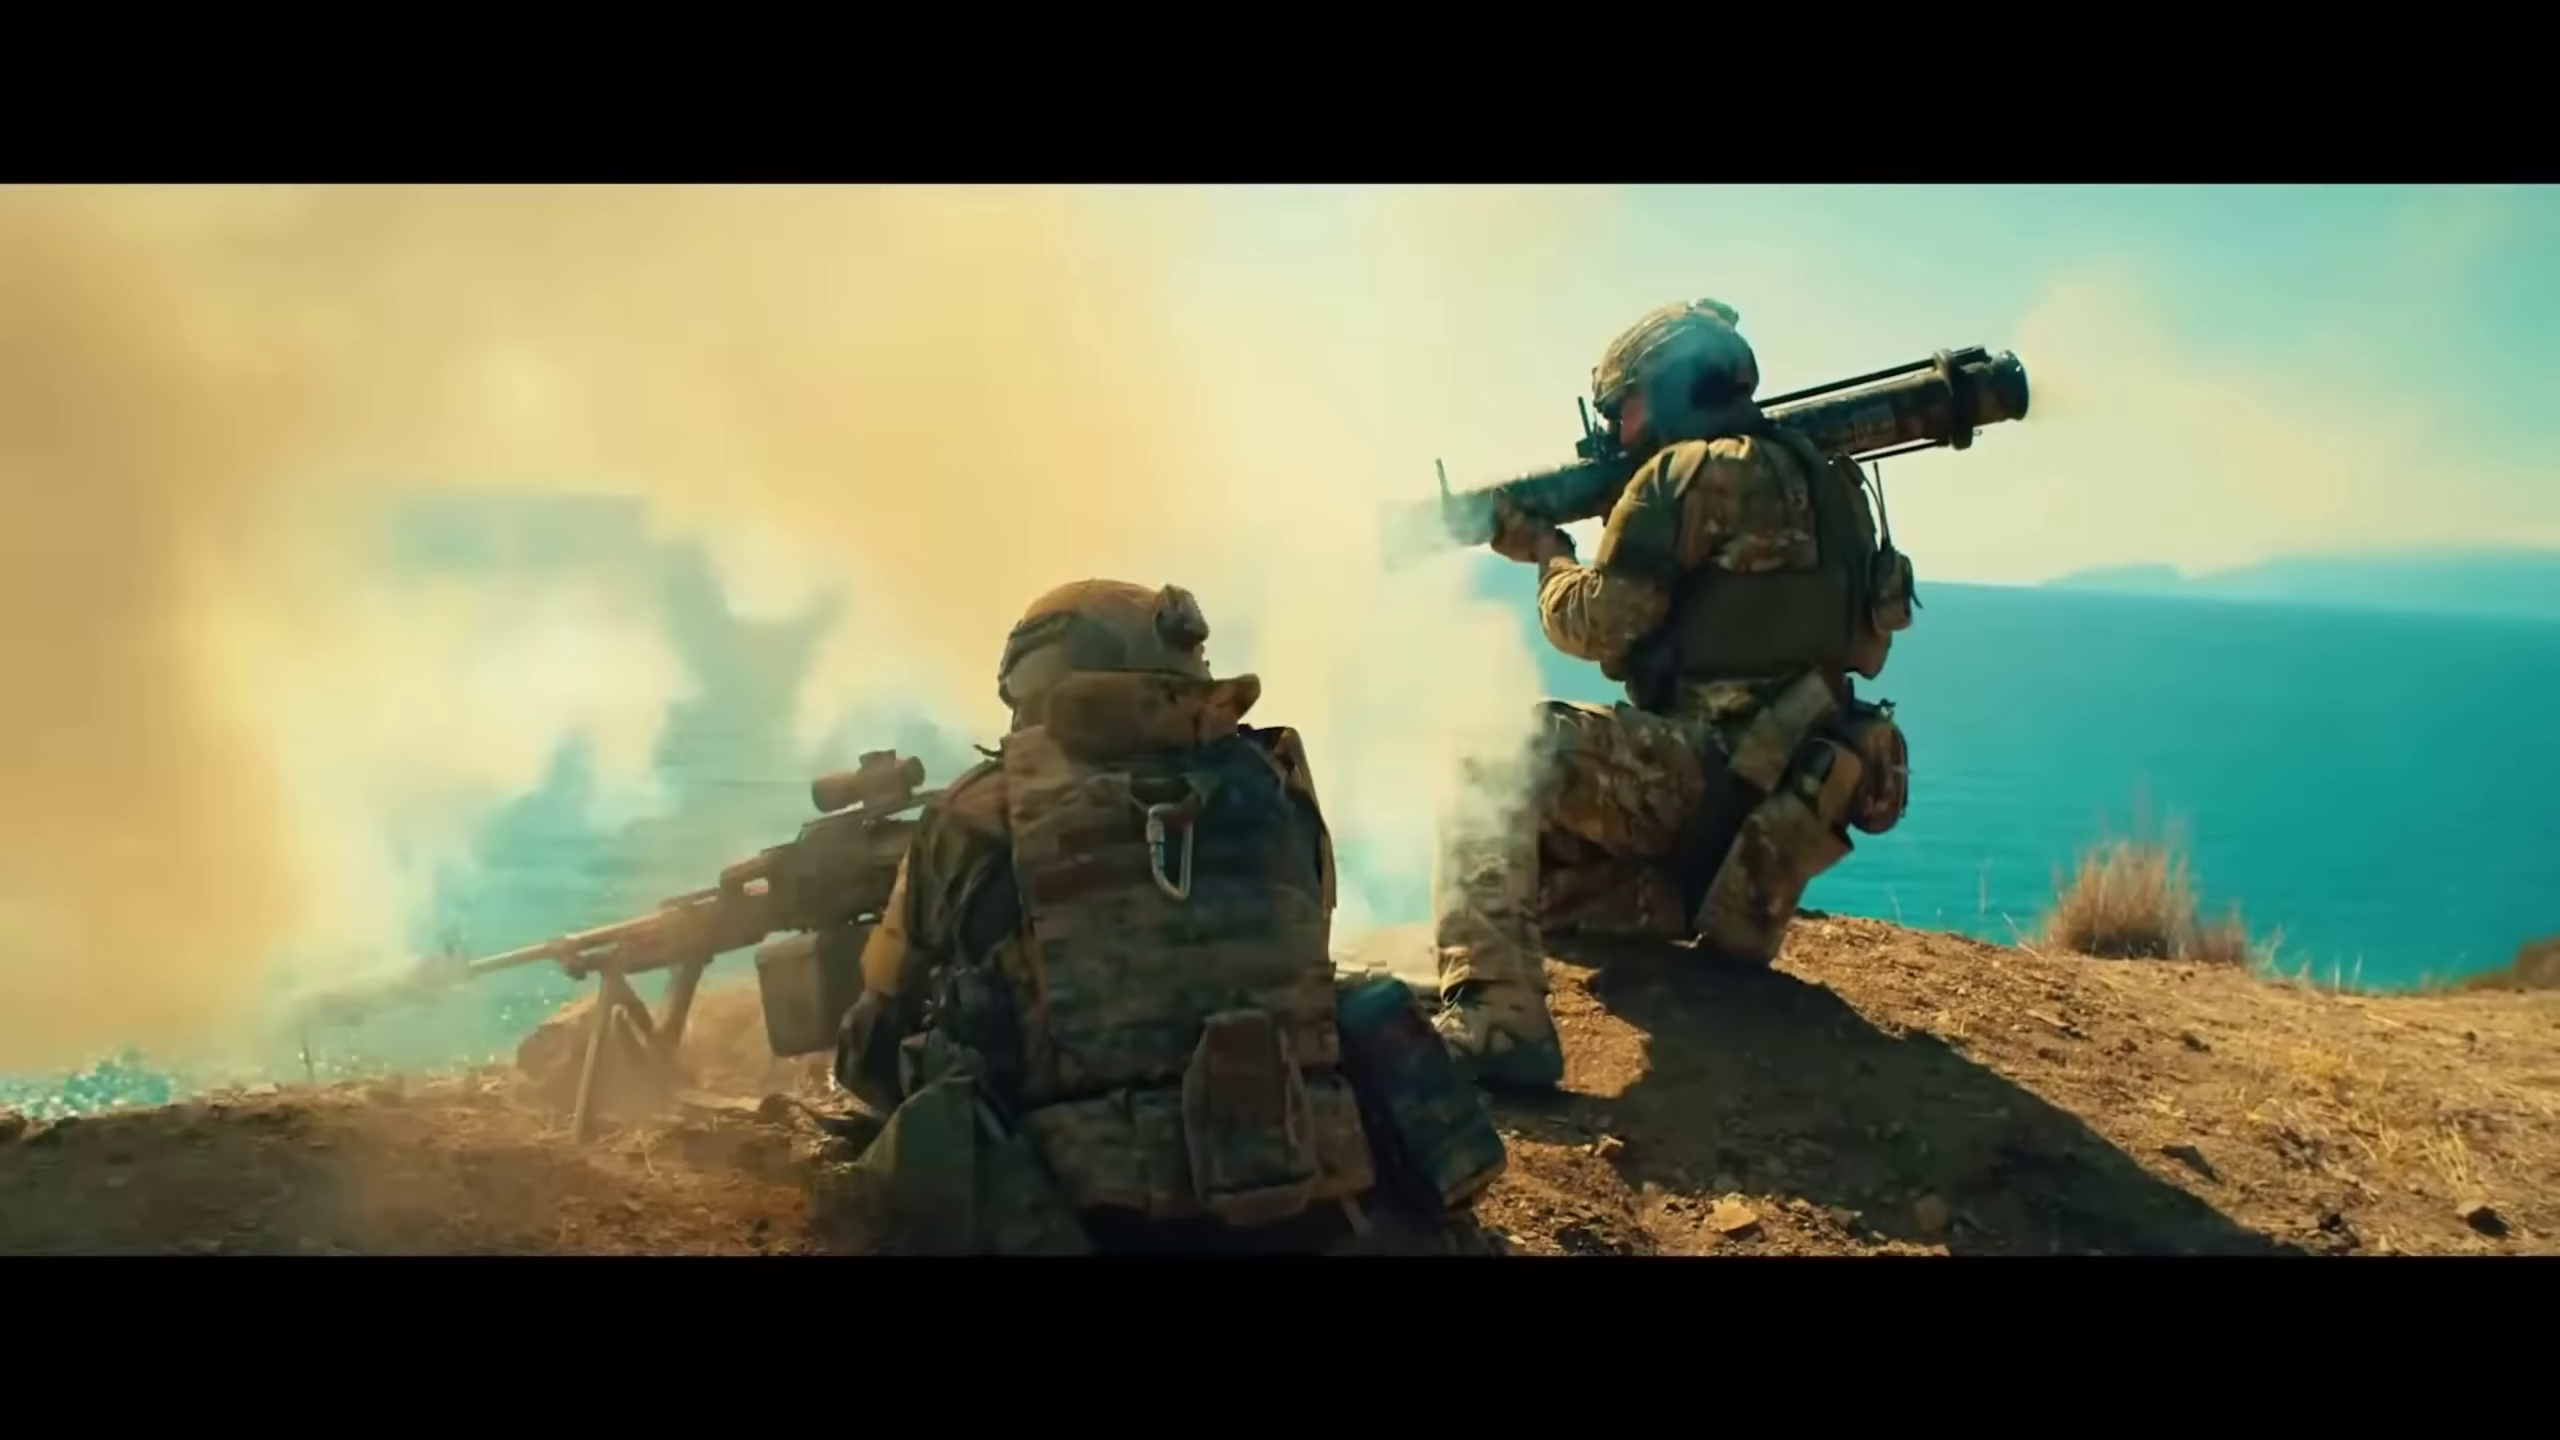gun: (471, 738, 981, 1057), (1391, 334, 2033, 582)
p_w_gun: (457, 571, 1502, 1250), (1375, 292, 2038, 1092)
